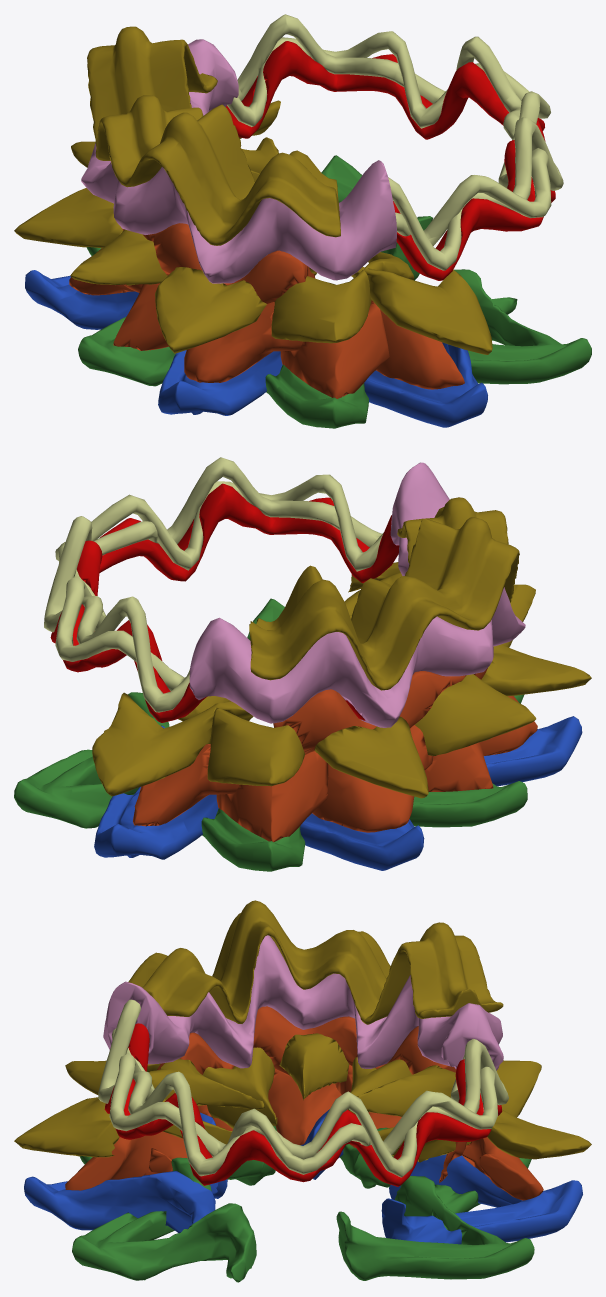
Rendered from walker.glb.
3 views of the same model, one above another, from view 1: azimuth 30°, elevation 25°; view 2: azimuth 150°, elevation 25°; view 3: azimuth 270°, elevation 25° (orthographic). The views are drawn at different scales.
Parts seen in each view (by area): view 1: Vert.019, Vert.016, Vert.027, Vert.008, Vert.007, Vert.029, Vert.005, Vert.030, Vert.020, Vert.013, Vert.018, Vert.014; view 2: Vert.019, Vert.016, Vert.027, Vert.008, Vert.007, Vert.005, Vert.030, Vert.029, Vert.013, Vert.020, Vert.018, Vert.014; view 3: Vert.008, Vert.019, Vert.016, Vert.007, Vert.027, Vert.030, Vert.013, Vert.020, Vert.005, Vert.029, Vert.014, Vert.018.
Boxes of the visible parts, left/top/right/bottom form: Vert.019: left=87, top=26, right=340, bottom=245; Vert.016: left=81, top=39, right=396, bottom=283; Vert.027: left=14, top=100, right=492, bottom=354; Vert.008: left=78, top=155, right=591, bottom=428; Vert.007: left=25, top=270, right=487, bottom=427; Vert.029: left=226, top=41, right=555, bottom=280; Vert.005: left=70, top=137, right=414, bottom=343; Vert.030: left=227, top=14, right=563, bottom=270; Vert.020: left=227, top=31, right=551, bottom=246; Vert.013: left=69, top=248, right=464, bottom=389; Vert.018: left=113, top=283, right=389, bottom=398; Vert.014: left=122, top=223, right=315, bottom=303; Vert.019: left=249, top=497, right=519, bottom=690; Vert.016: left=189, top=462, right=525, bottom=727; Vert.027: left=92, top=562, right=591, bottom=798; Vert.008: left=14, top=598, right=527, bottom=871; Vert.007: left=94, top=716, right=582, bottom=870; Vert.005: left=178, top=572, right=536, bottom=786; Vert.030: left=44, top=457, right=381, bottom=712; Vert.029: left=50, top=483, right=399, bottom=722; Vert.013: left=133, top=696, right=537, bottom=832; Vert.020: left=55, top=474, right=383, bottom=690; Vert.018: left=216, top=742, right=493, bottom=841; Vert.014: left=273, top=668, right=487, bottom=754; Vert.008: left=72, top=1126, right=534, bottom=1282; Vert.019: left=128, top=900, right=503, bottom=1024; Vert.016: left=103, top=935, right=503, bottom=1070; Vert.007: left=24, top=1109, right=582, bottom=1244; Vert.027: left=14, top=1033, right=591, bottom=1159; Vert.030: left=98, top=999, right=508, bottom=1177; Vert.013: left=65, top=1069, right=543, bottom=1200; Vert.020: left=109, top=1028, right=497, bottom=1174; Vert.005: left=65, top=1047, right=541, bottom=1162; Vert.029: left=104, top=1023, right=502, bottom=1186; Vert.014: left=157, top=1006, right=456, bottom=1076; Vert.018: left=148, top=1064, right=466, bottom=1182.
Size of the model in its own units: 4.16 by 2.35 by 4.86.
